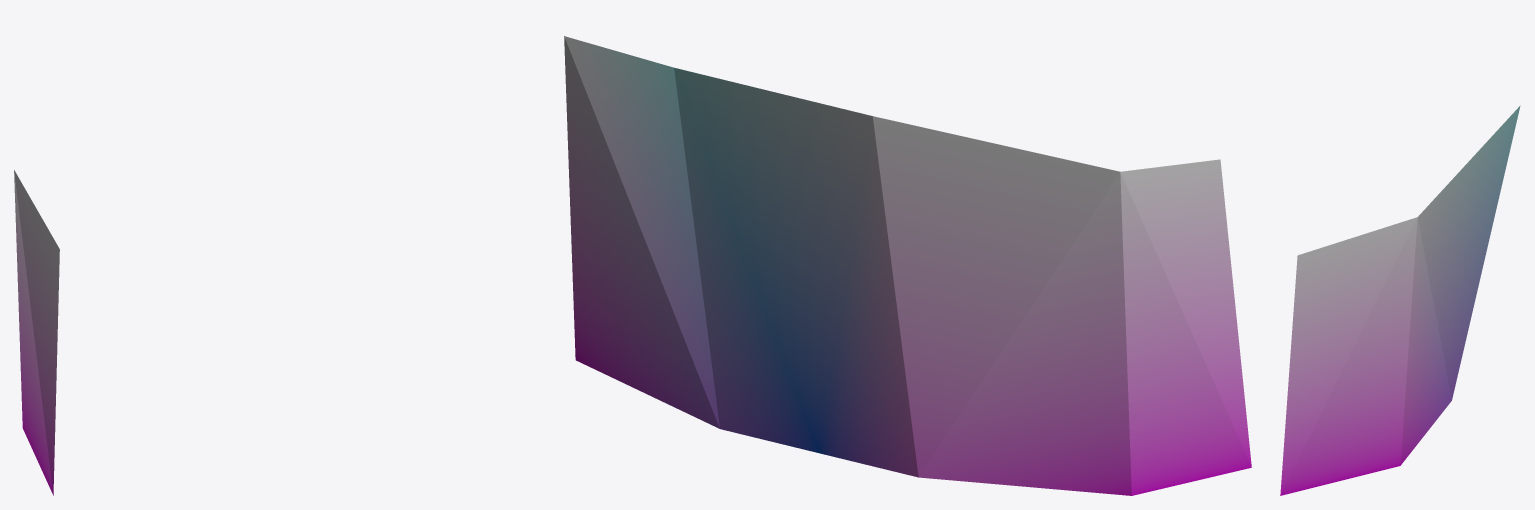
3 views of the same model, side by side, from view 1: azimuth 30°, elevation 25°; view 2: azimuth 150°, elevation 25°; view 3: azimuth 270°, elevation 25° (orthographic). The views are drawn at different scales.
Visible parts, largest first — view 1: model_11C1; view 2: model_11C1; view 3: model_11C1.
Boxes of the visible parts, left/top/right/bottom form: model_11C1: left=14, top=170, right=59, bottom=495; model_11C1: left=564, top=36, right=1251, bottom=495; model_11C1: left=1280, top=105, right=1520, bottom=495.
Bounding box in the file's own units: 32 × 20 × 14.
